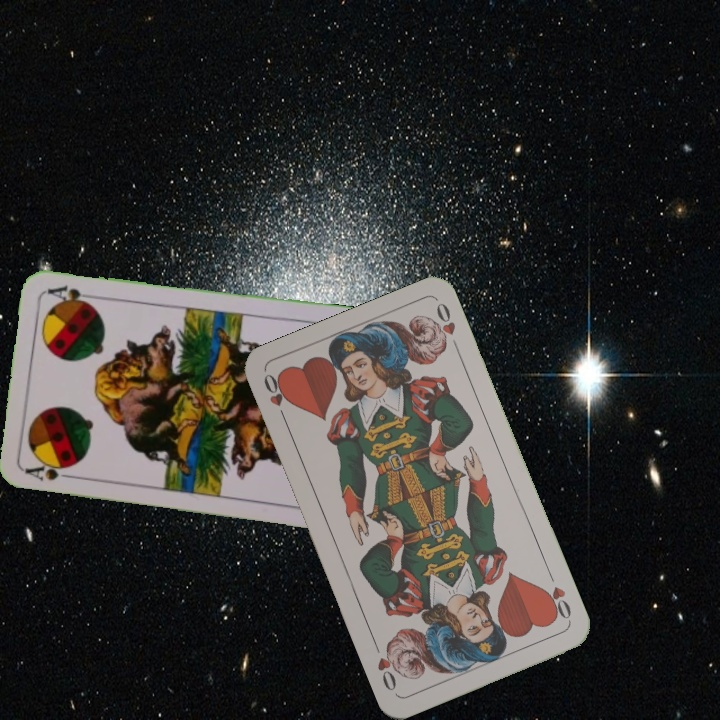HO: (539, 567, 574, 624), (259, 369, 291, 426)
SA: (22, 461, 81, 483)
